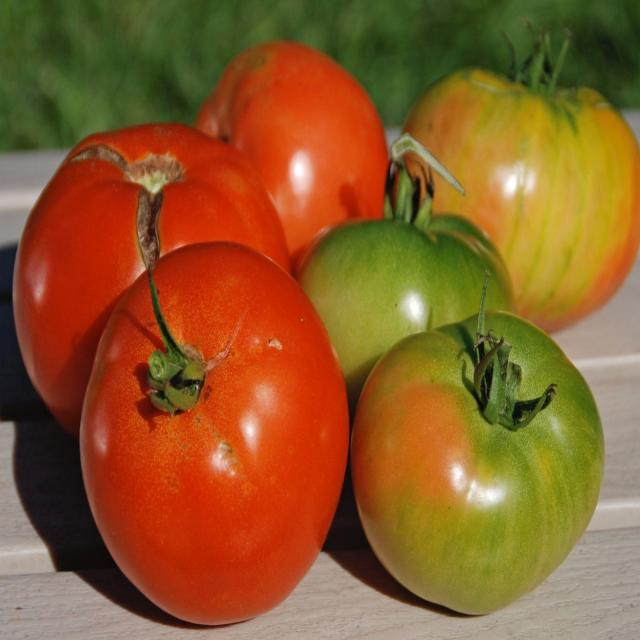tomato: (69, 241, 356, 624)
